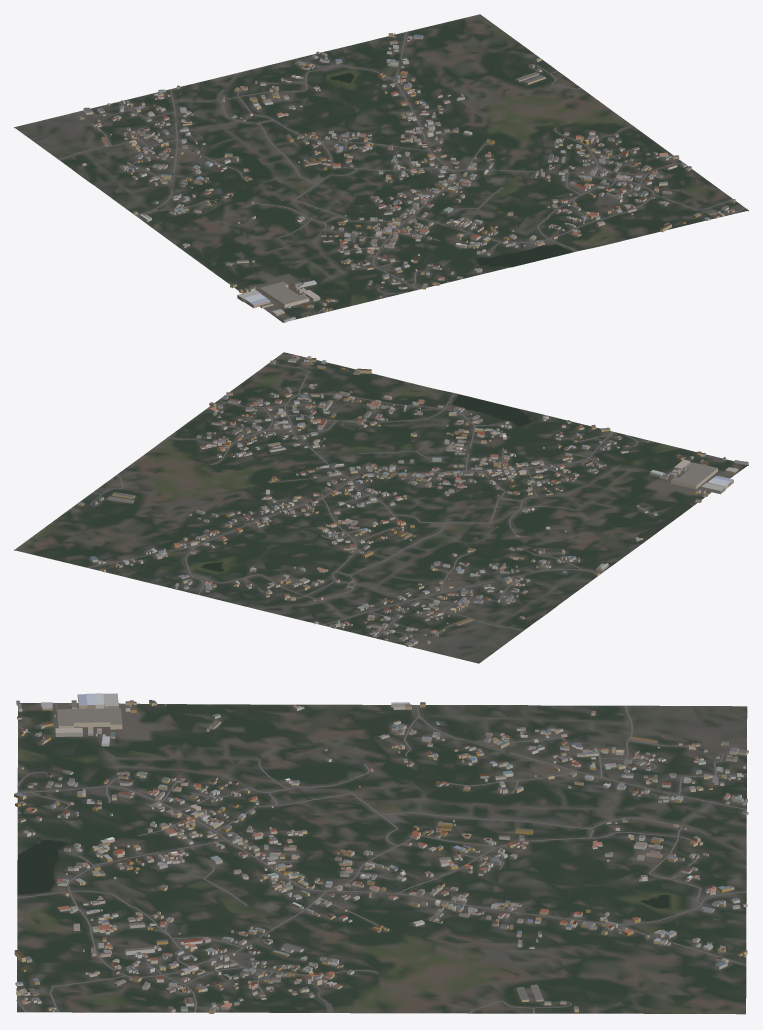
3 views of the same model, one above another, from view 1: azimuth 30°, elevation 25°; view 2: azimuth 150°, elevation 25°; view 3: azimuth 270°, elevation 25° (orthographic). The views are drawn at different scales.
Visible parts, largest first — view 1: ground, buildings, roads, water; view 2: ground, buildings, roads, water; view 3: ground, buildings, roads, water.
Part boxes in pixels (bbox=[...]): ground: bbox=[14, 14, 748, 322]; buildings: bbox=[78, 33, 735, 322]; roads: bbox=[59, 31, 745, 313]; water: bbox=[330, 73, 572, 266]; ground: bbox=[14, 352, 748, 663]; buildings: bbox=[78, 355, 748, 646]; roads: bbox=[87, 354, 734, 639]; water: bbox=[202, 394, 531, 571]; ground: bbox=[17, 703, 747, 1014]; buildings: bbox=[14, 693, 748, 1013]; roads: bbox=[16, 703, 746, 1013]; water: bbox=[18, 839, 669, 908].
Bounding box in the file's own units: 1431 × 19.39 × 1413.
